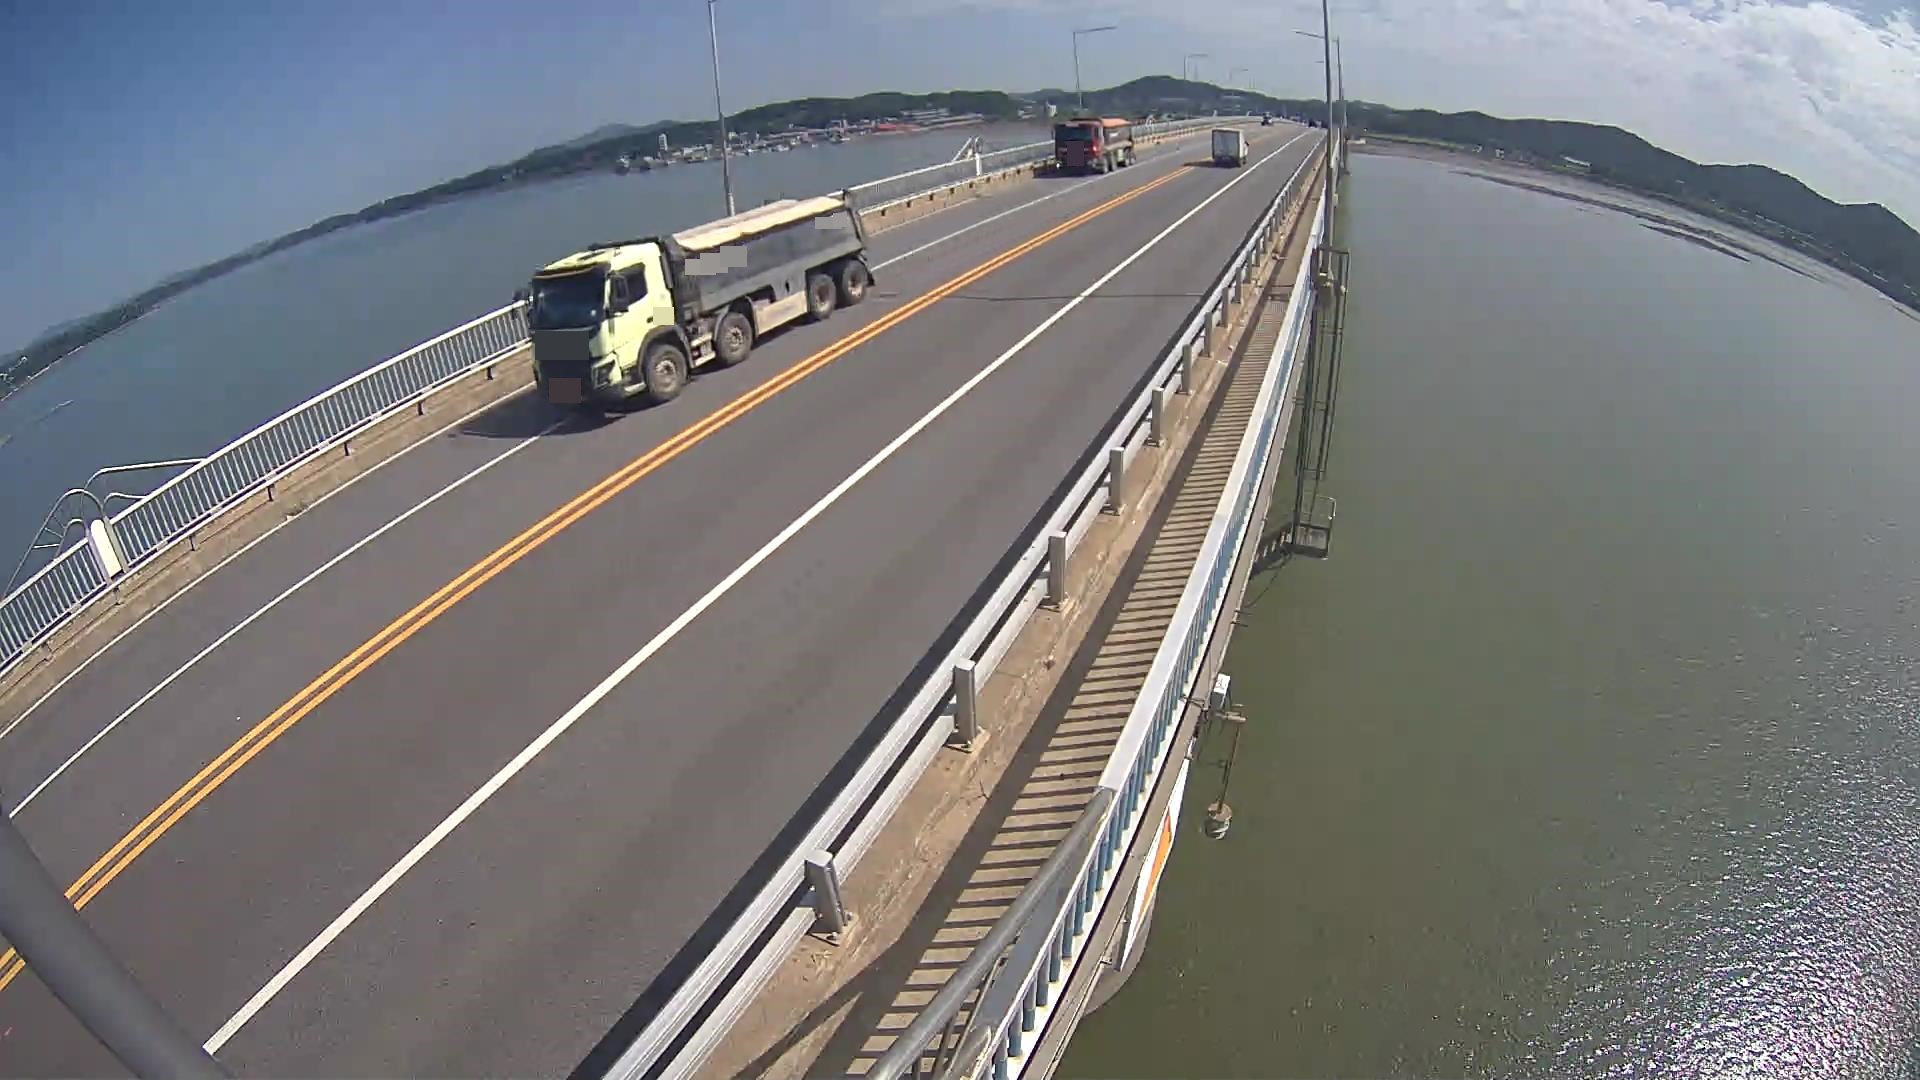정상차량: (511, 189, 876, 404)
